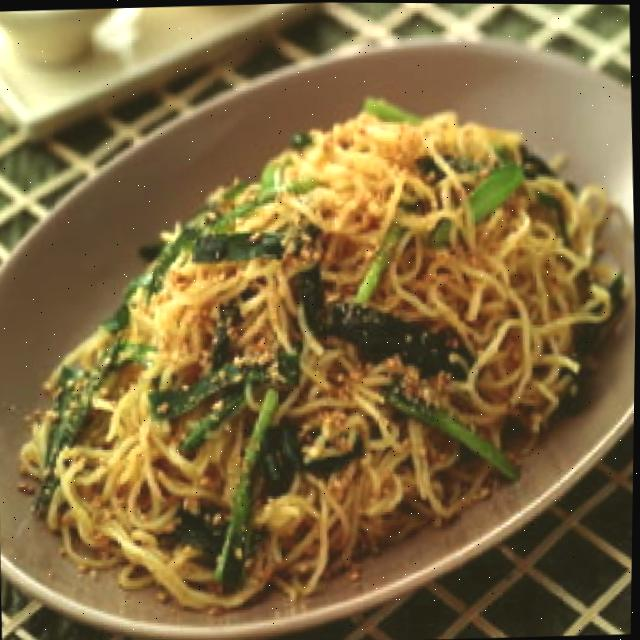面条主食: (12, 87, 624, 608)
